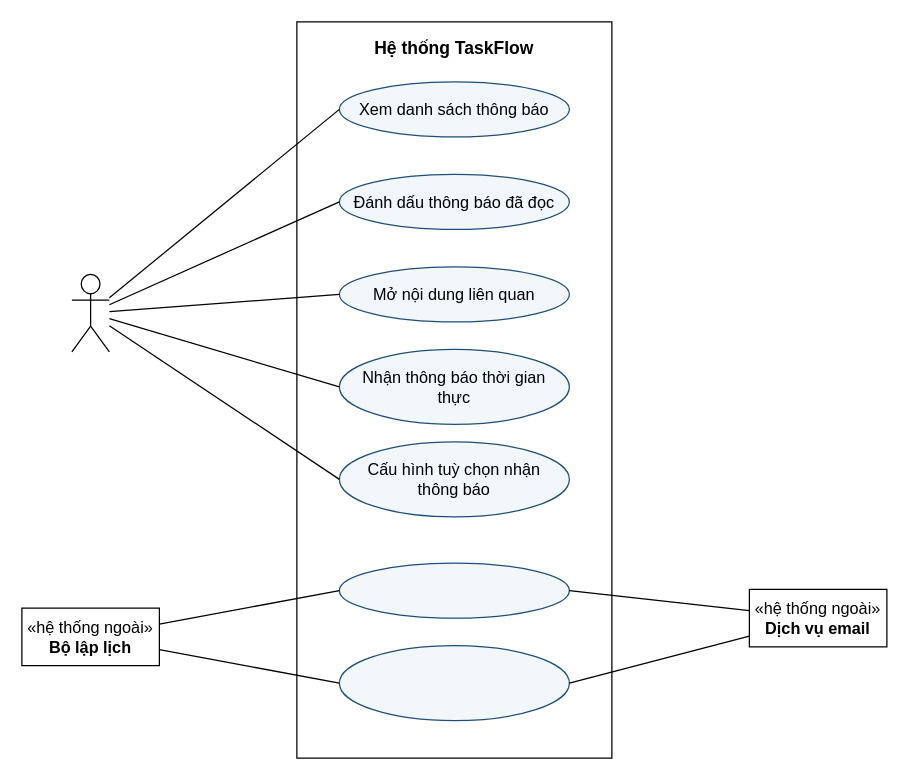
The diagram is 909 pixels wide and 780 high, and some of its shapes have lost their labels. Here are the shapes that lost their labels. From the top down, the centre of each, then its label:
At pixel 90 312: "Người dùng".
At pixel 453 590: "Gửi nhắc hạn công việc".
At pixel 453 682: "Gửi email tổng hợp hằng ngày".
